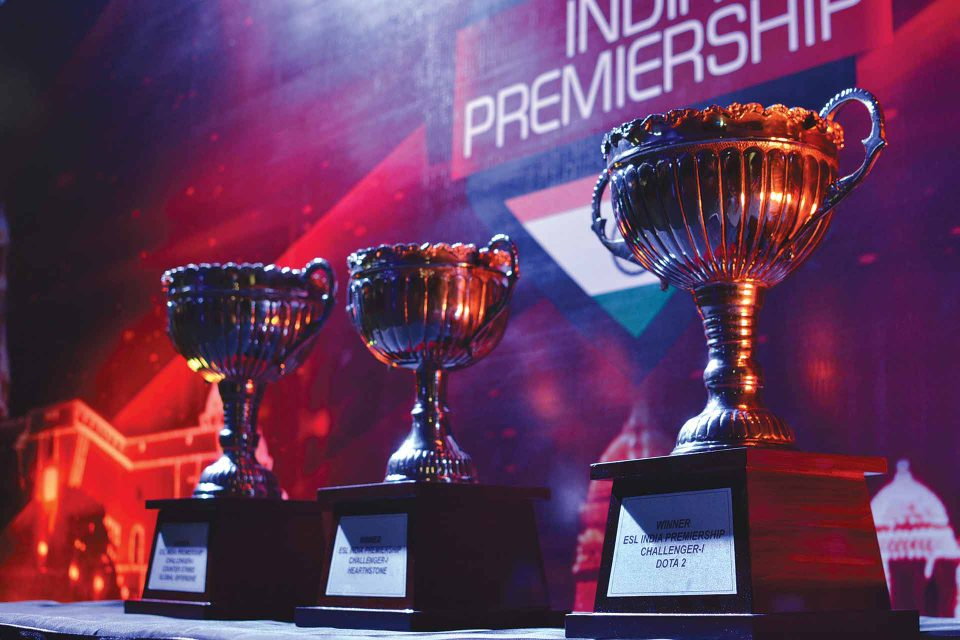trophy: (578, 84, 892, 640), (125, 255, 336, 618), (342, 233, 525, 620)
